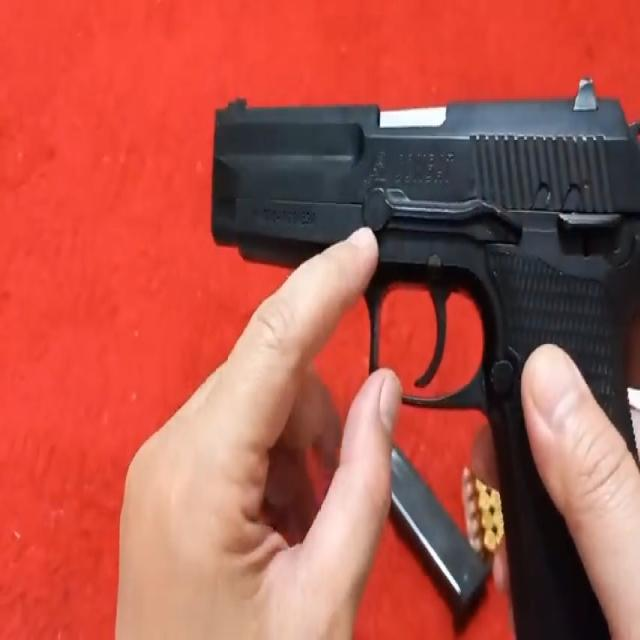handgun: (207, 80, 640, 630)
